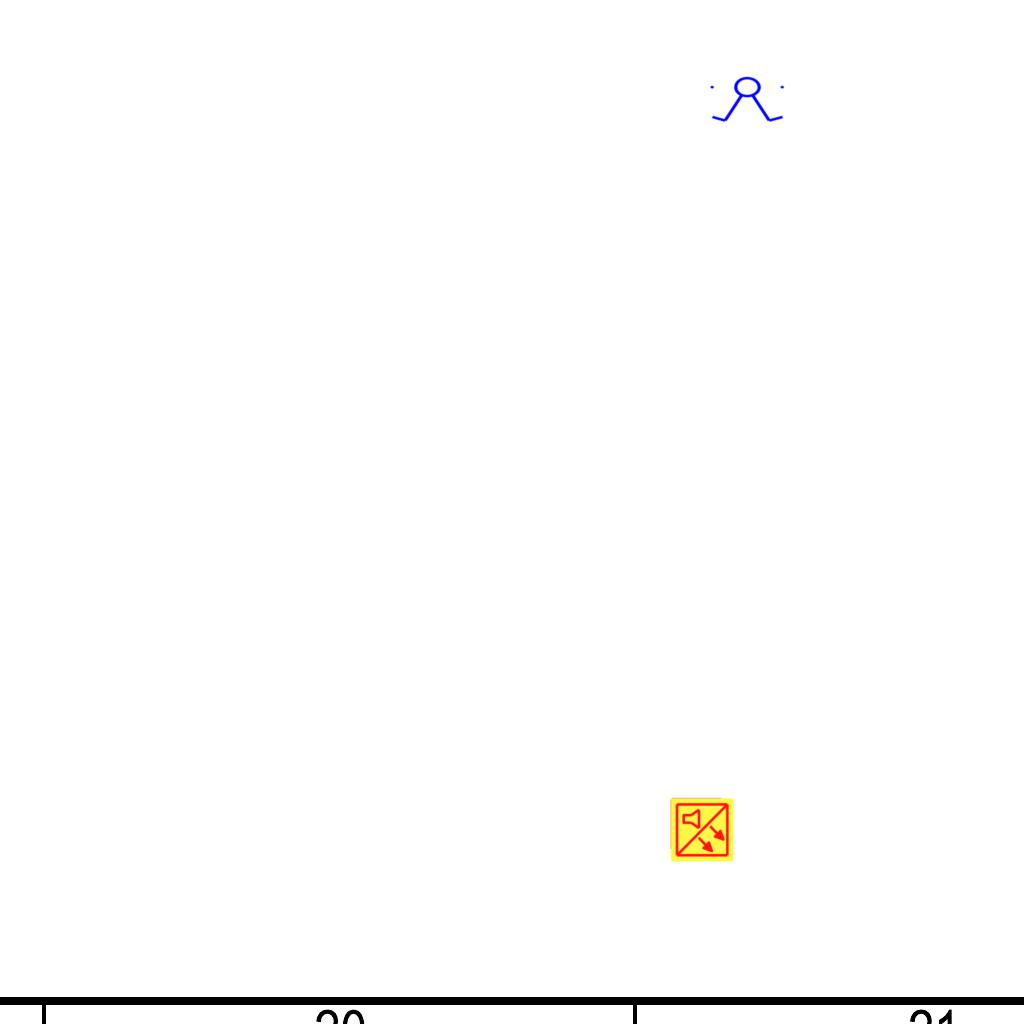OKW_Multisensormelder_(Kombination_optischer_Rauch-Kahlenmonoxid_Waerme-Melder): (669, 797, 735, 863)
Serienschalter: (706, 76, 790, 124)
